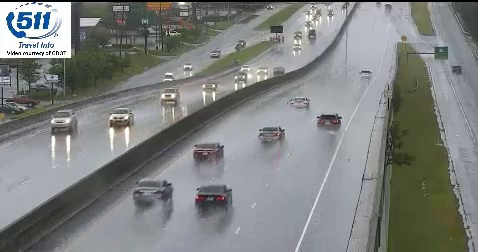car: (133, 179, 173, 202), (195, 185, 232, 207), (193, 142, 223, 161), (257, 126, 285, 144), (316, 114, 341, 131), (290, 97, 309, 110)
